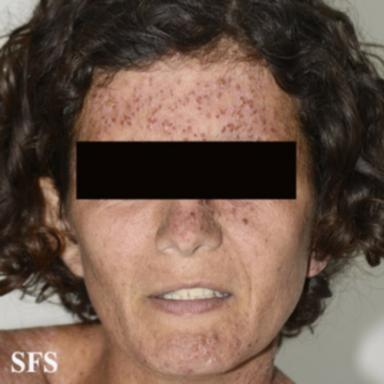Darier_s-Disease: (87, 73, 292, 141), (131, 312, 254, 374), (171, 200, 259, 234), (230, 350, 277, 384)
